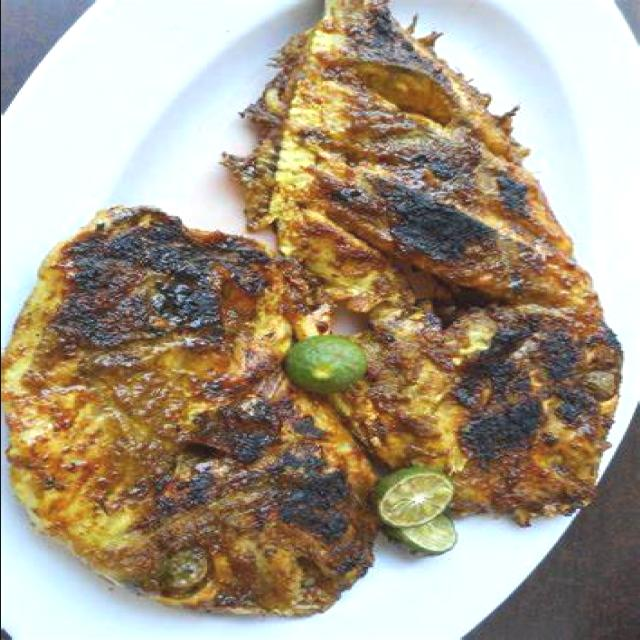ikan bakar: (226, 0, 622, 548), (0, 203, 380, 620)
